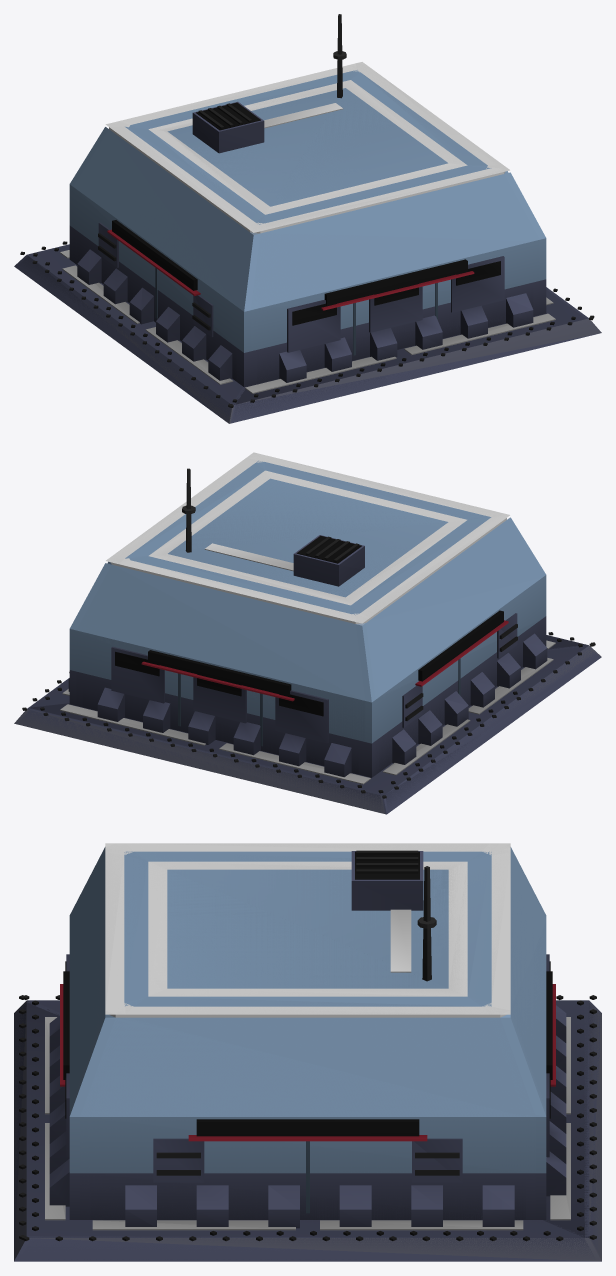
Rendered from veyran_fortified_bunker.glb.
The picture shows the model from 3 angles, top to bottom: view 1: azimuth 30°, elevation 25°; view 2: azimuth 150°, elevation 25°; view 3: azimuth 270°, elevation 25°; orthographic projection. The views are drawn at different scales.
Visible parts, largest first — view 1: body (×3); view 2: body (×3); view 3: body (×3).
Part boxes in pixels (<box>): body (×3): <box>14,14,601,423</box>; body (×3): <box>14,452,601,814</box>; body (×3): <box>14,843,601,1261</box>.
Bounding box in the file's own units: 7.4 × 4.45 × 7.4.
